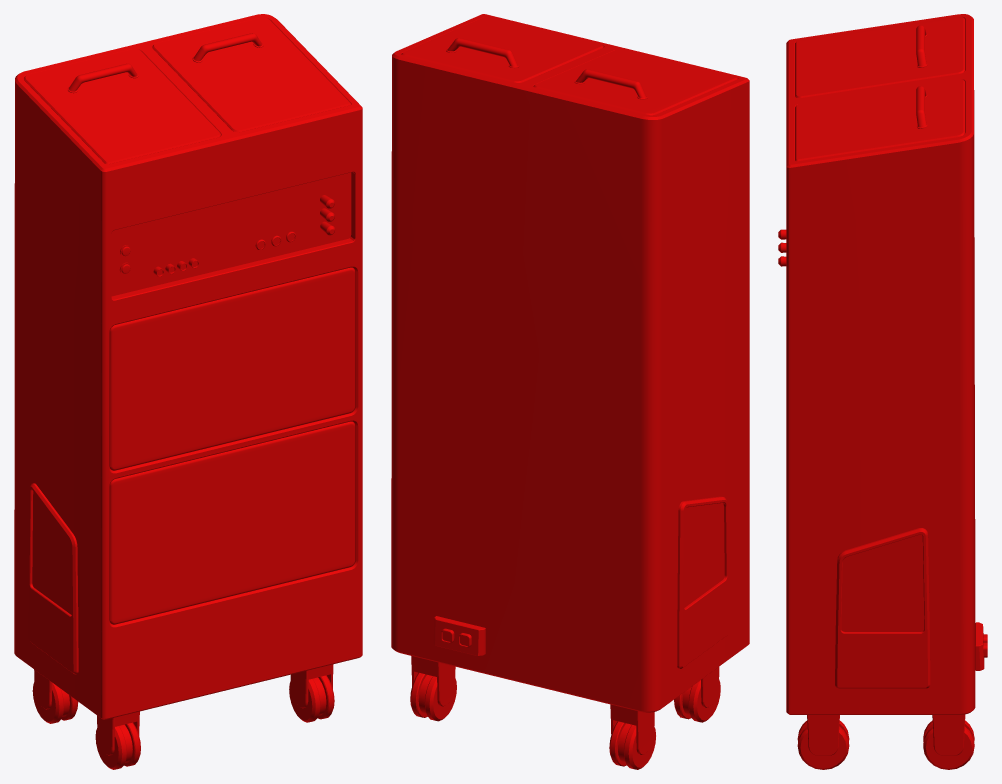
File: Equipment_2.fbx
The picture shows the model from 3 angles, left to right: view 1: azimuth 30°, elevation 25°; view 2: azimuth 150°, elevation 25°; view 3: azimuth 270°, elevation 25°; orthographic projection. The views are drawn at different scales.
Visible parts, largest first — view 1: polySurface3055; view 2: polySurface3055; view 3: polySurface3055.
Boxes of the visible parts, x1,y1,x2,y2 form: polySurface3055: (14, 14, 362, 769); polySurface3055: (391, 14, 749, 769); polySurface3055: (778, 14, 987, 769).
Size of the model in its own units: 70.24 by 163 by 47.32.
